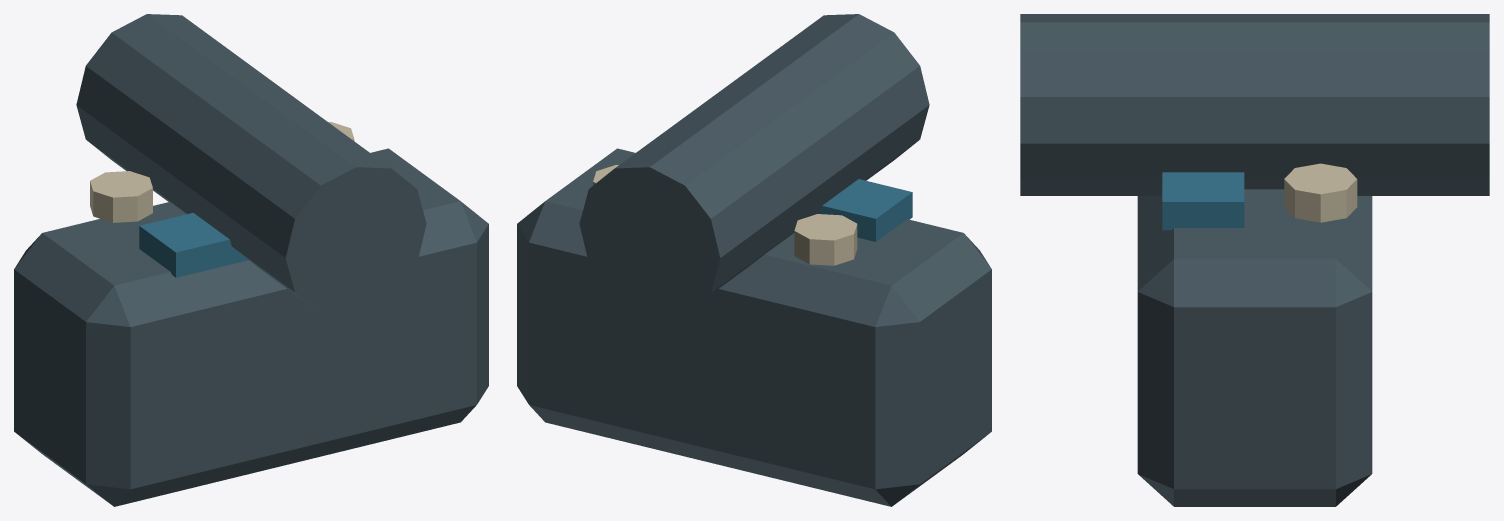
The model's file is set_alarm_clock.glb.
The picture shows the model from 3 angles, left to right: view 1: azimuth 30°, elevation 25°; view 2: azimuth 150°, elevation 25°; view 3: azimuth 270°, elevation 25°; orthographic projection. The views are drawn at different scales.
Visible parts, largest first — view 1: set_alarm_clock; view 2: set_alarm_clock; view 3: set_alarm_clock.
Boxes of the visible parts, left/top/right/bottom form: set_alarm_clock: left=14, top=14, right=488, bottom=506; set_alarm_clock: left=517, top=14, right=991, bottom=506; set_alarm_clock: left=1020, top=14, right=1489, bottom=506.
Bounding box in the file's own units: 0.2 × 0.165 × 0.18.
